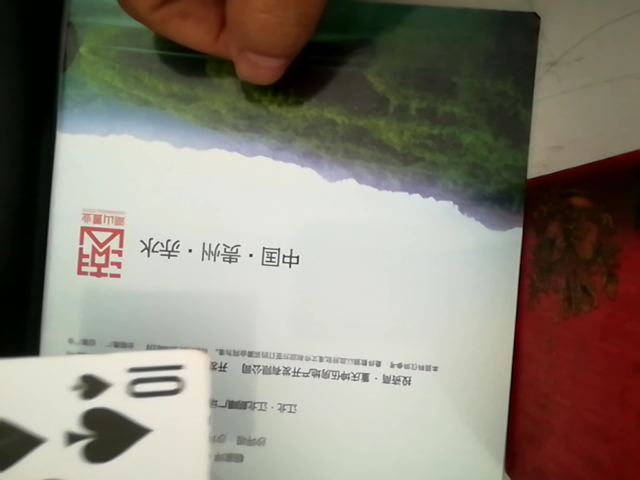ht 10: (1, 348, 232, 479)
